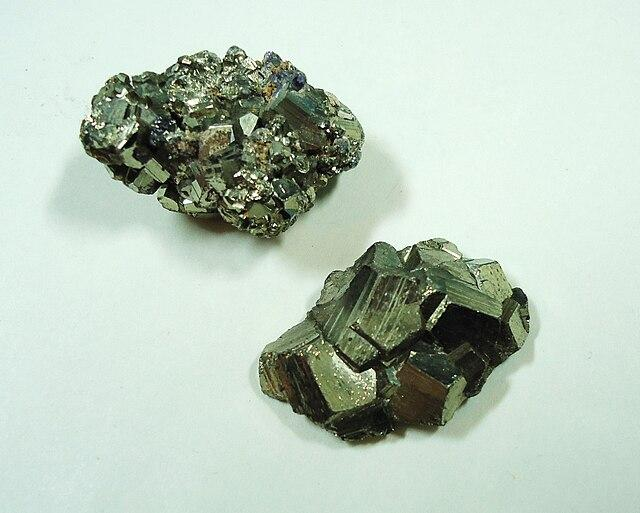pyrite: (78, 47, 553, 443)
